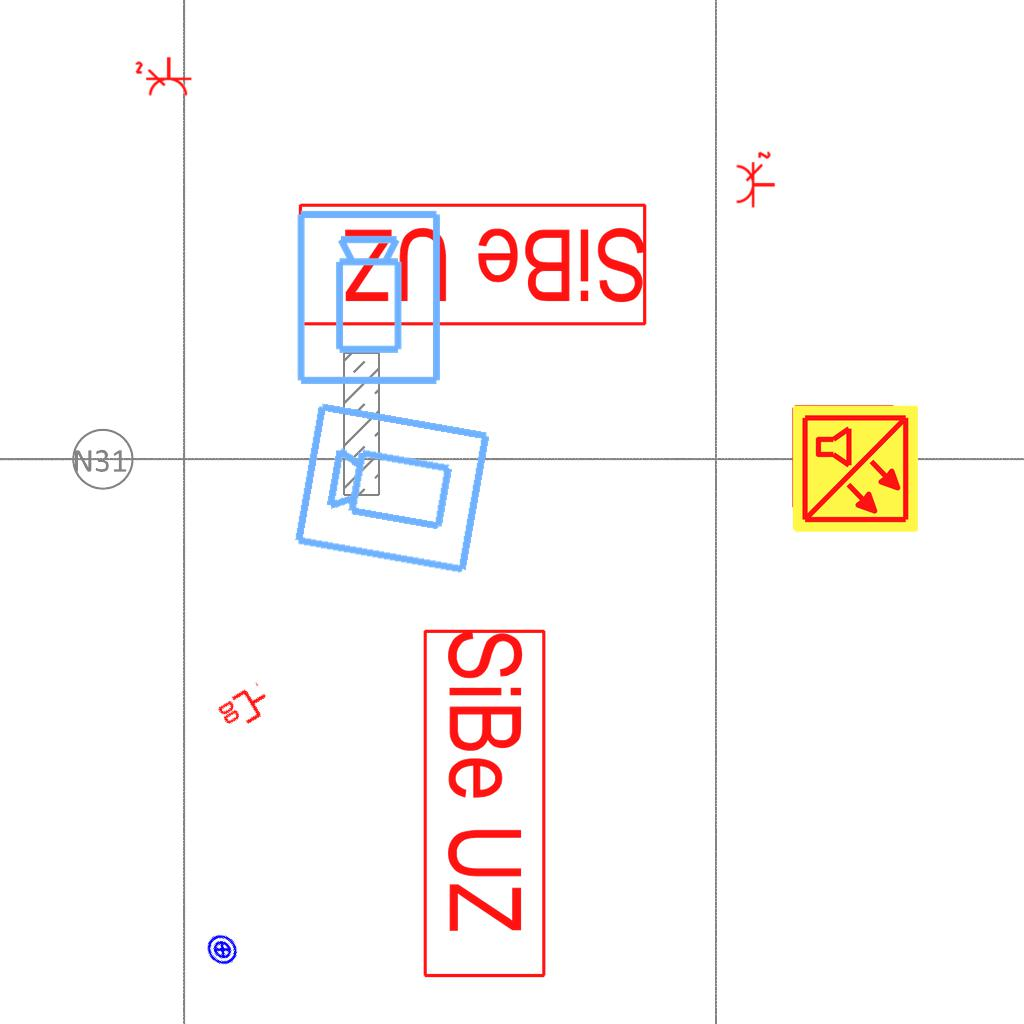Datenanschluss_zweifach: (214, 680, 276, 737)
KFO_Kamera_mit_Festobjektiv: (290, 395, 496, 579), (293, 207, 447, 389)
OKW_Multisensormelder_(Kombination_optischer_Rauch-Kahlenmonoxid_Waerme-Melder): (789, 403, 921, 535)
Schukosteckdose_mehrfach: (134, 54, 194, 98), (734, 150, 778, 210)
Taster_beleuchtet: (199, 926, 246, 973)
Zentrale_Sicherheitsbeleuchtung: (293, 199, 650, 329), (419, 626, 549, 983)
